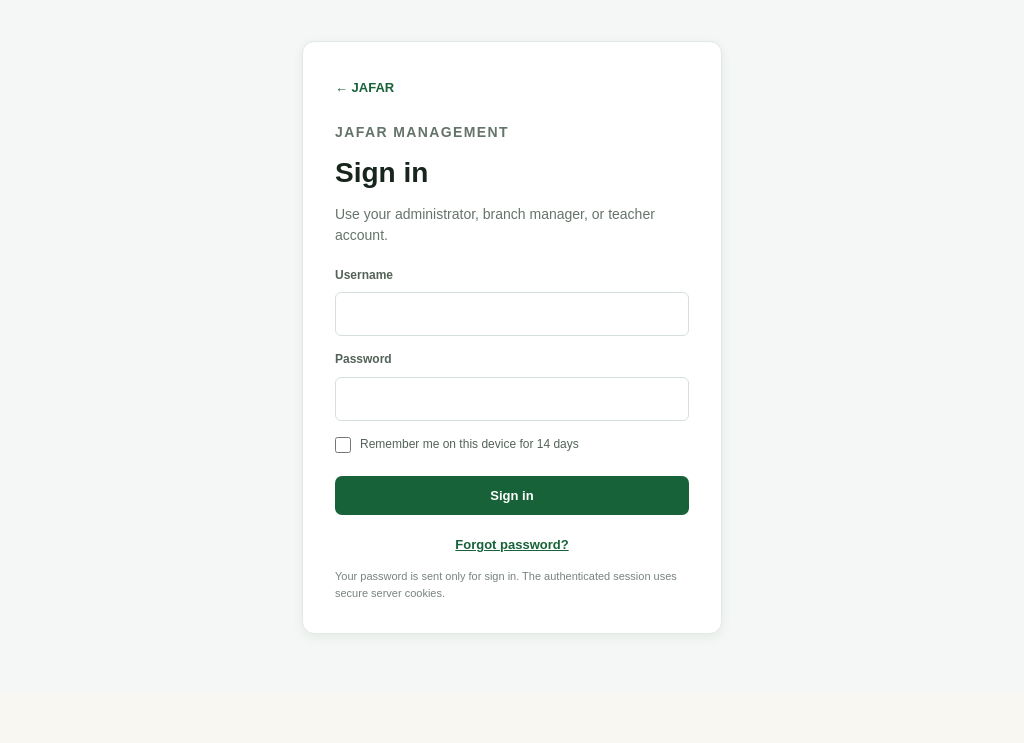
Test: Search and filter reset › SEARCH-008: resetting the student search clears the query and reloads the full roster
Expected: the heading "Sign in" is shown, [335,157,428,188]
In the field labelled "Username": (512, 314) [335,292,689,336], type "admin"
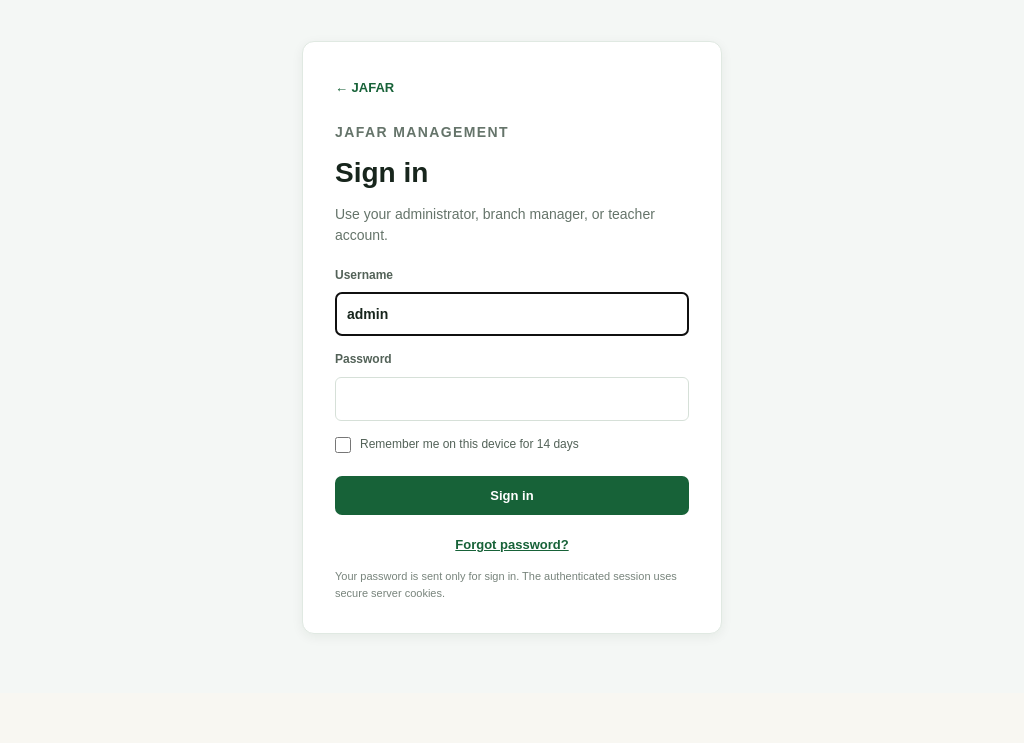
In the password field labelled "Password": (512, 399) [335,377,689,421], type "admin1234"
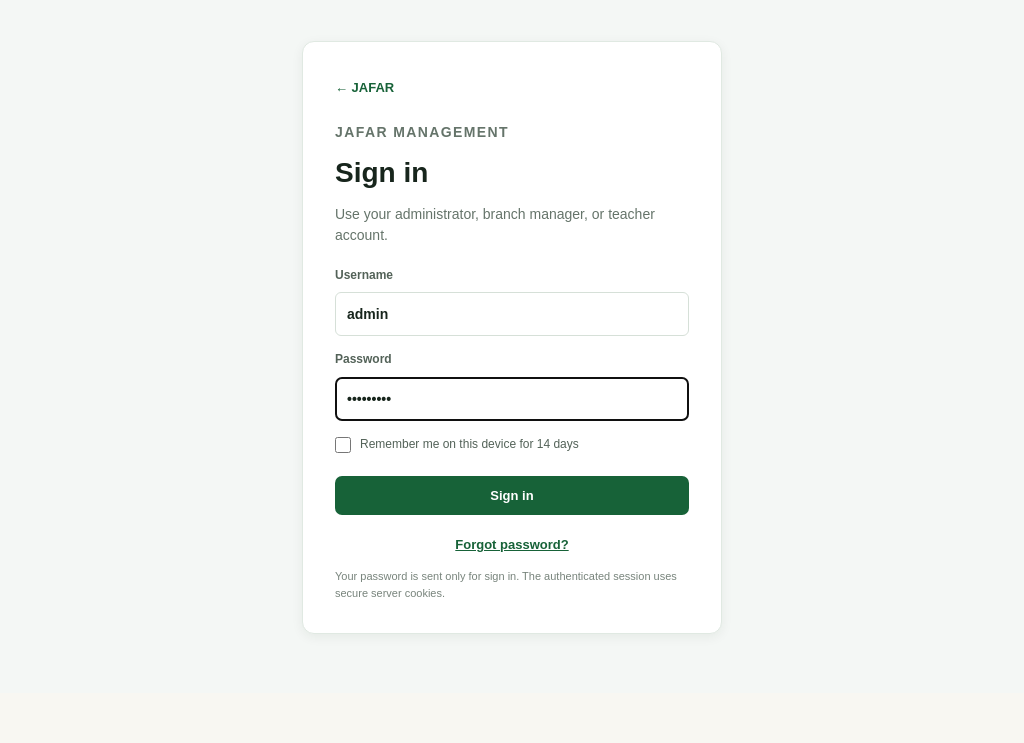
Click the button "Sign in": click(512, 496) [335,476,689,515]
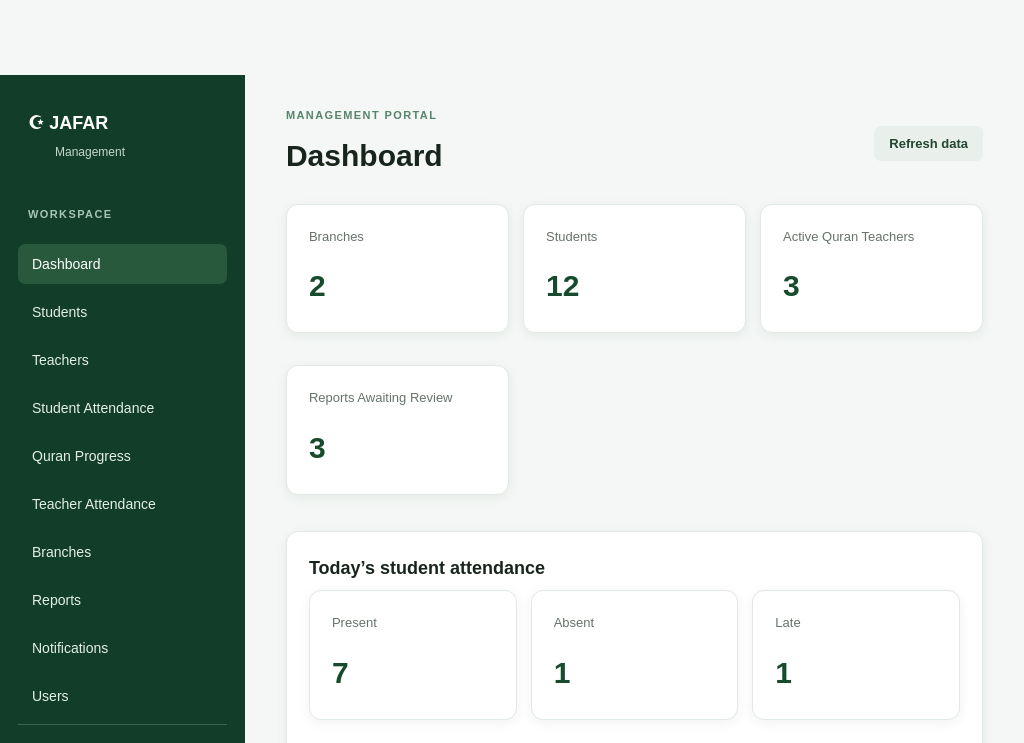
Result: the heading "Dashboard" is shown at [286,132,443,180]
Click the button "Students": click(122, 312) [18,292,227,332]
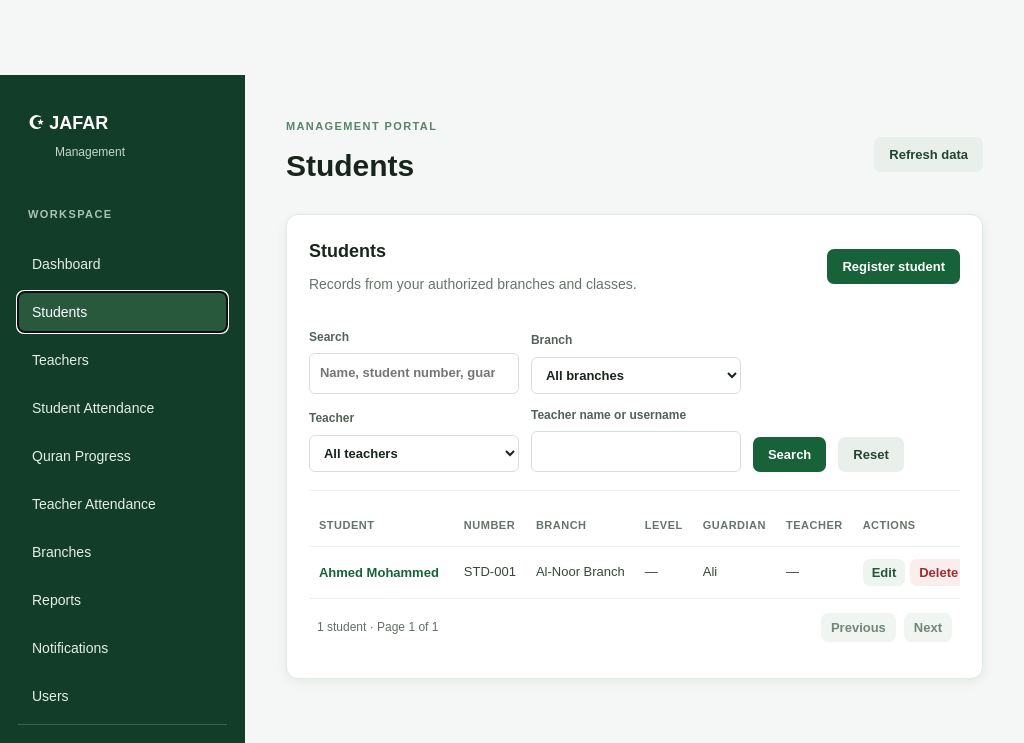
Result: the heading "Students" below "MANAGEMENT PORTAL" is shown at [286,149,414,182]
In the search field with placeholder "Name, student number, guardian": (414, 373) [309,353,519,394], type "ahmed"
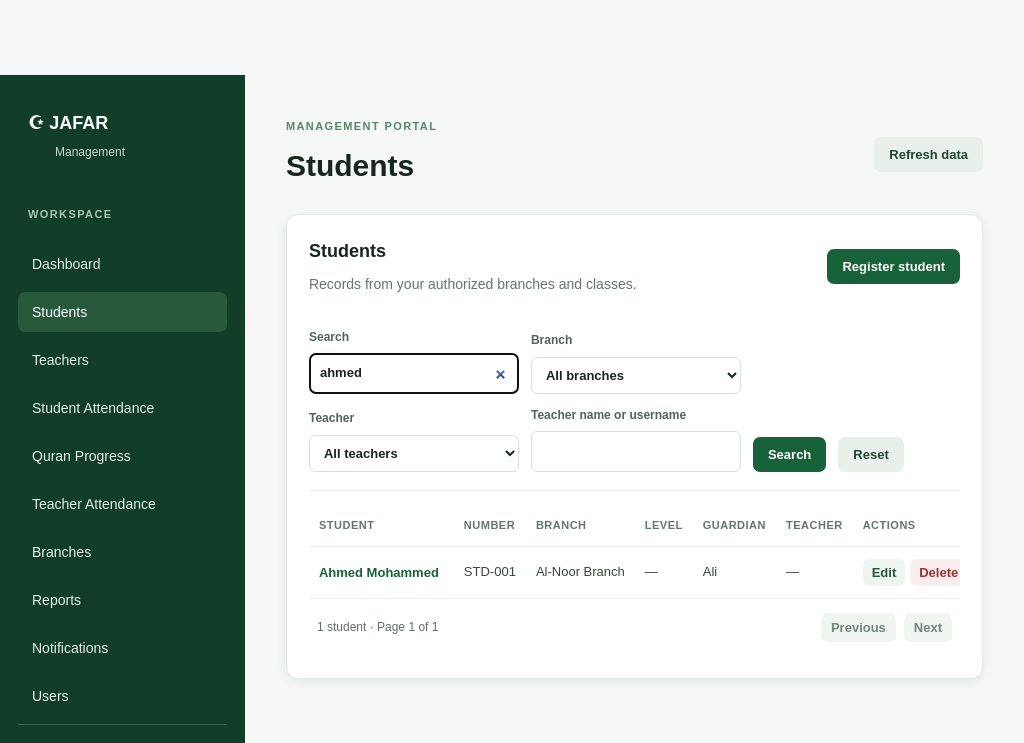
Click the button "Reset": click(871, 454) [838,437,904,472]
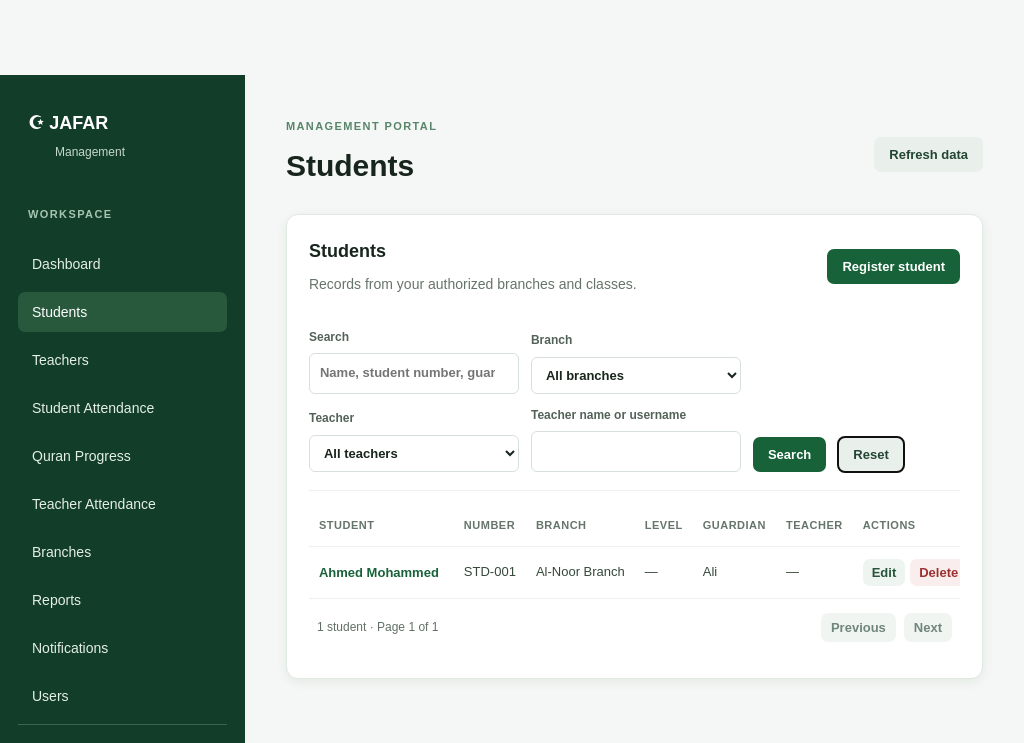
Result: the search field with placeholder "Name, student number, guardian" is empty at [309,353,519,394]
